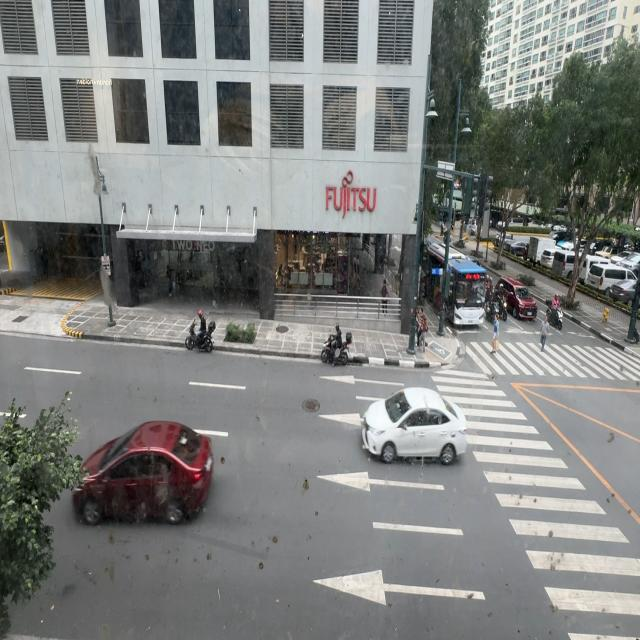crossing: (540, 314, 550, 350), (492, 312, 499, 352)
pedestrain: (418, 308, 428, 351)
